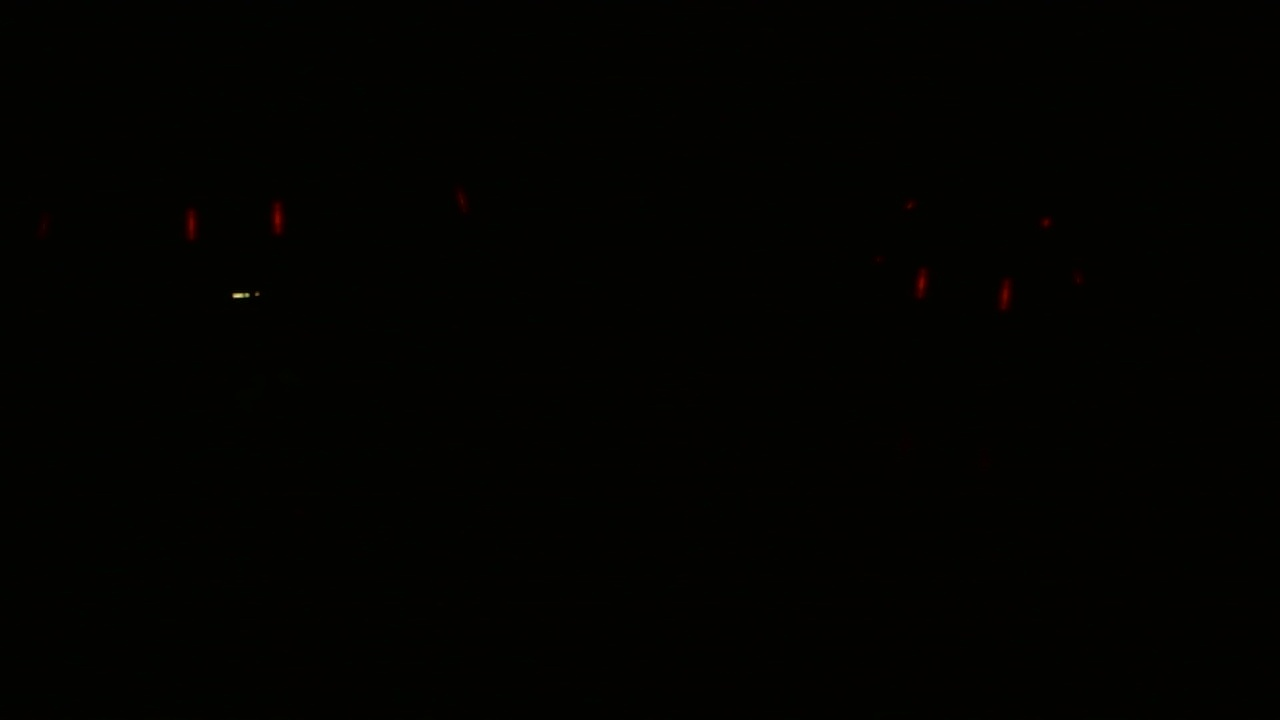pair1: (908, 264, 1013, 315), (182, 200, 286, 240)
